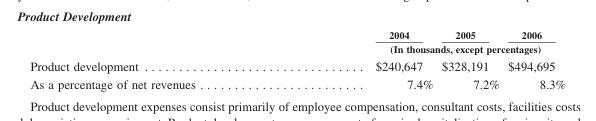table: (29, 28, 565, 90)
table column: (29, 28, 284, 90), (284, 28, 436, 90), (436, 28, 503, 90), (503, 28, 565, 90)
table column header: (29, 28, 565, 56)
table row: (29, 56, 565, 74), (29, 74, 565, 90), (29, 41, 565, 56), (29, 28, 565, 41)
table spanning cell: (284, 41, 565, 56)
